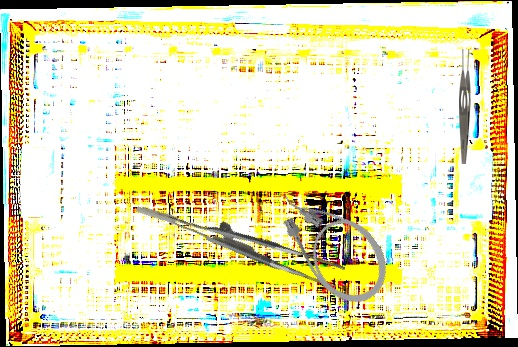Cannula: (265, 168, 402, 317)
Dressing Forceps: (459, 49, 472, 164)
Tissue Forceps: (135, 171, 346, 308)
